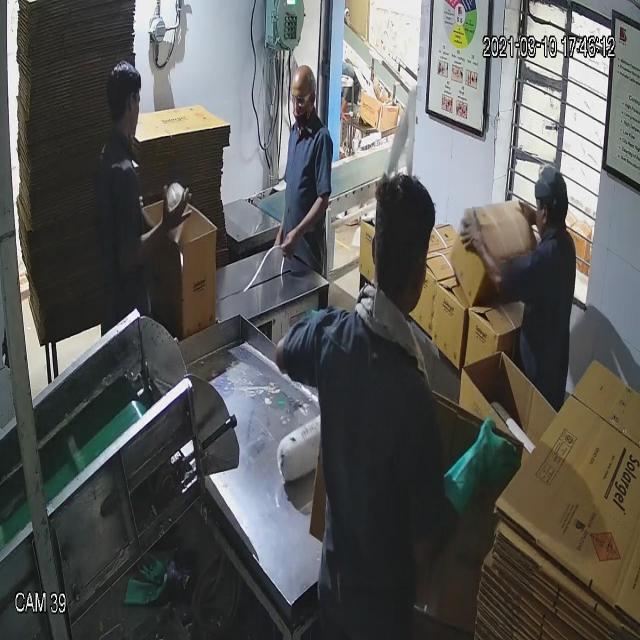Gloves: (50, 77, 483, 464)
